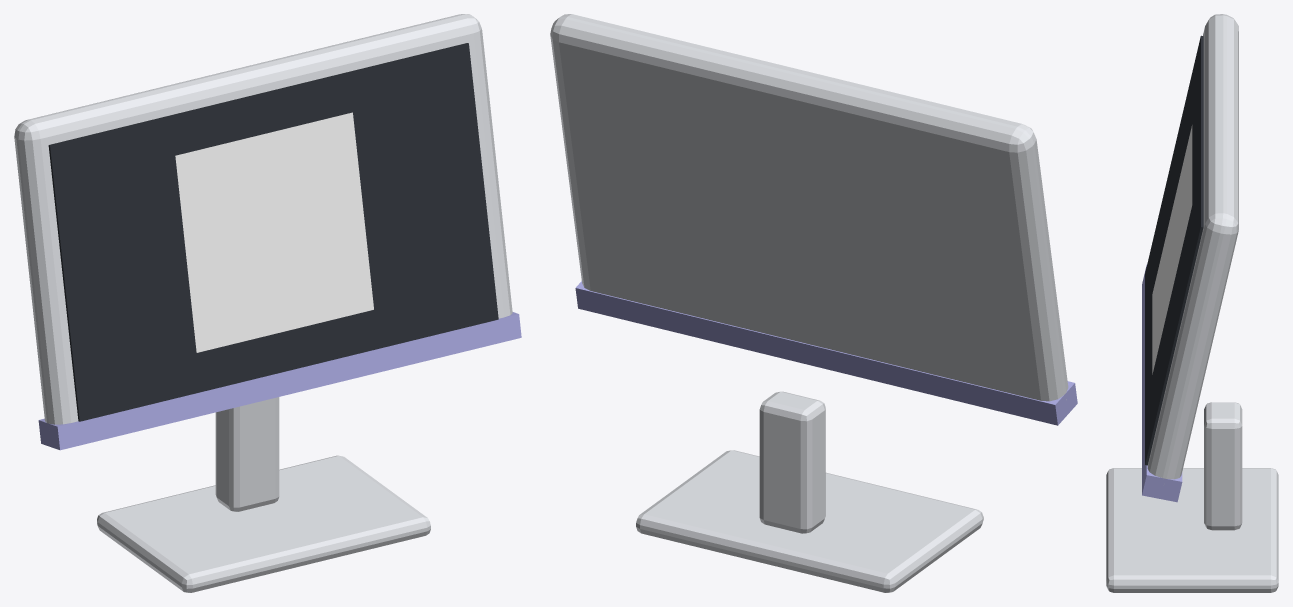
File: client.glb
3 renders of one model, left to right at view 1: azimuth 30°, elevation 25°; view 2: azimuth 150°, elevation 25°; view 3: azimuth 270°, elevation 25°, orthographic. The views are drawn at different scales.
Visible parts, largest first — view 1: cl_glass, cl_logo, cl_frame, cl_foot, cl_bar, cl_neck; view 2: cl_frame, cl_foot, cl_bar, cl_neck; view 3: cl_foot, cl_frame, cl_glass, cl_neck, cl_logo, cl_bar.
Boxes of the visible parts, x1,y1,x2,y2 form: cl_glass: [48, 43, 498, 421]; cl_logo: [175, 112, 373, 352]; cl_frame: [14, 14, 512, 424]; cl_foot: [97, 455, 430, 592]; cl_bar: [38, 312, 521, 450]; cl_neck: [215, 397, 279, 511]; cl_frame: [550, 14, 1068, 401]; cl_foot: [636, 450, 983, 592]; cl_bar: [575, 281, 1077, 425]; cl_neck: [759, 391, 825, 533]; cl_foot: [1106, 468, 1278, 592]; cl_frame: [1147, 14, 1238, 479]; cl_glass: [1145, 35, 1203, 465]; cl_neck: [1204, 402, 1242, 530]; cl_logo: [1152, 125, 1192, 374]; cl_bar: [1142, 264, 1182, 502].
Size of the model in its own units: 1.3 by 1.22 by 0.45.
